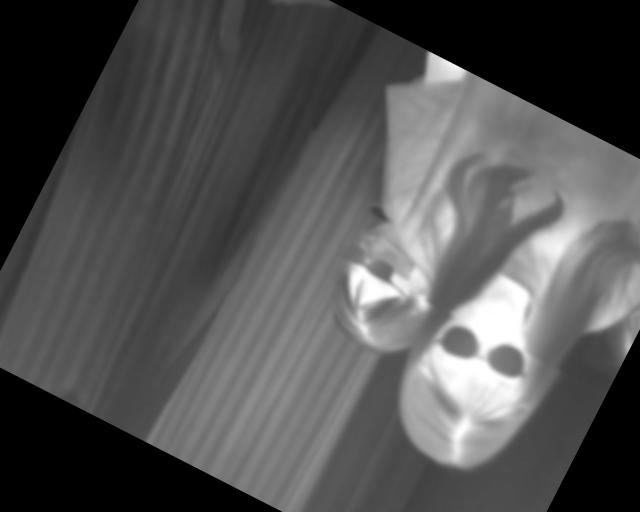face: (381, 274, 569, 487), (309, 206, 454, 364)
